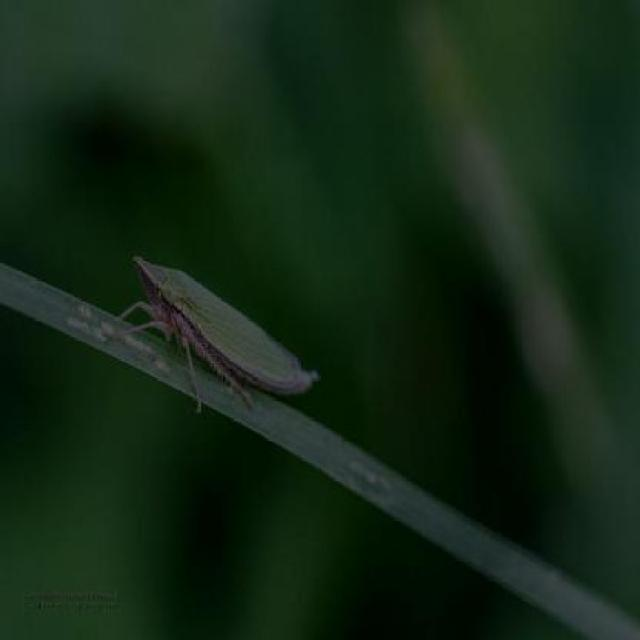green-leafhopper: (131, 255, 317, 434)
